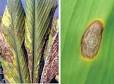Diseased_Leaves: (1, 12, 32, 81), (79, 18, 108, 69), (40, 27, 58, 84)
